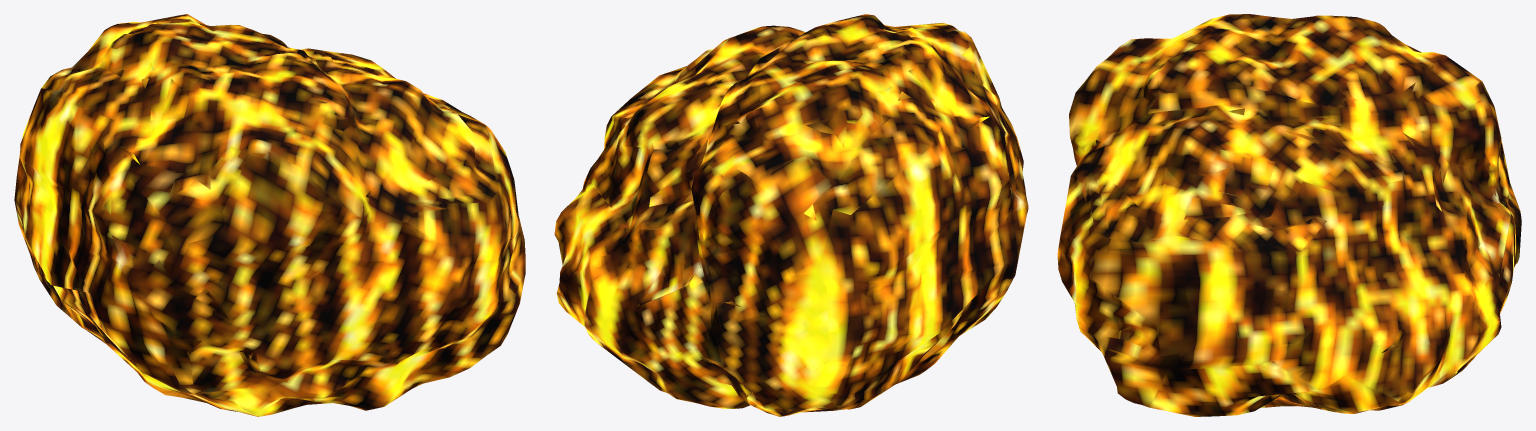
File: meteor_yellow_02.glb
3 views of the same model, side by side, from view 1: azimuth 30°, elevation 25°; view 2: azimuth 150°, elevation 25°; view 3: azimuth 270°, elevation 25° (orthographic). The views are drawn at different scales.
Visible parts, largest first — view 1: Mesh1.0; view 2: Mesh1.0; view 3: Mesh1.0.
Part boxes in pixels (<box>): Mesh1.0: <box>14,14,525,416</box>; Mesh1.0: <box>554,14,1028,416</box>; Mesh1.0: <box>1057,14,1521,416</box>.
Size of the model in its own units: 1.87 by 1.46 by 1.9.
1 material, 1 textured.
